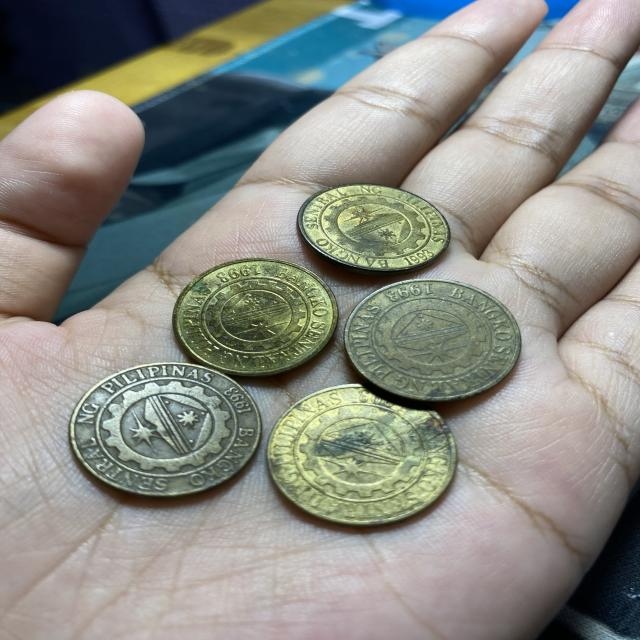25Cent_Old_Back: (297, 389, 458, 525), (85, 378, 246, 477), (364, 289, 516, 384), (186, 267, 322, 368), (311, 189, 441, 270)
